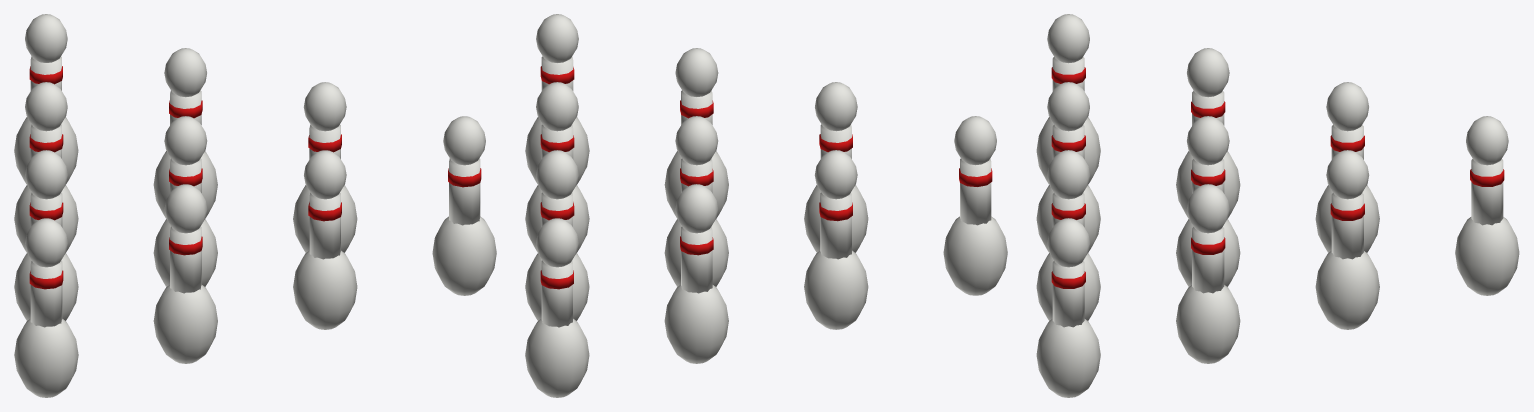
File: bowling_pins.glb
3 views of the same model, side by side, from view 1: azimuth 30°, elevation 25°; view 2: azimuth 150°, elevation 25°; view 3: azimuth 270°, elevation 25° (orthographic).
Visible parts, largest first — view 1: bowling_pins; view 2: bowling_pins; view 3: bowling_pins.
Part boxes in pixels (x1,y1,x2,y2): bowling_pins: [14, 14, 496, 397]; bowling_pins: [525, 14, 1007, 397]; bowling_pins: [1036, 14, 1519, 397].
Size of the model in its own units: 1.02 by 0.362 by 0.9.
Materials: 1 (1 with a texture image).
